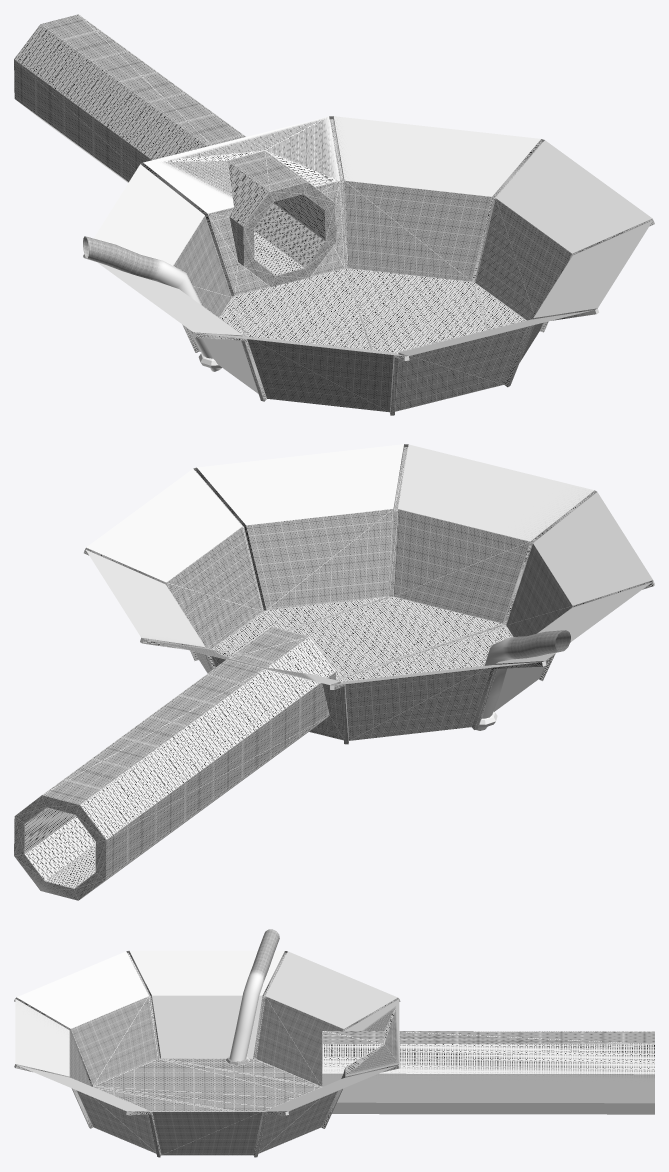
Rendered from pit_joined.gltf.
The picture shows the model from 3 angles, top to bottom: view 1: azimuth 30°, elevation 25°; view 2: azimuth 150°, elevation 25°; view 3: azimuth 270°, elevation 25°; orthographic projection. The views are drawn at different scales.
Visible parts, largest first — view 1: Torus; view 2: Torus; view 3: Torus.
Boxes of the visible parts, x1,y1,x2,y2 form: Torus: (14,14,654,415); Torus: (14,444,654,900); Torus: (14,929,654,1157).
Size of what is drawn, in the model's own units: 18.99 by 5.44 by 30.83.
1 material, 1 textured.
